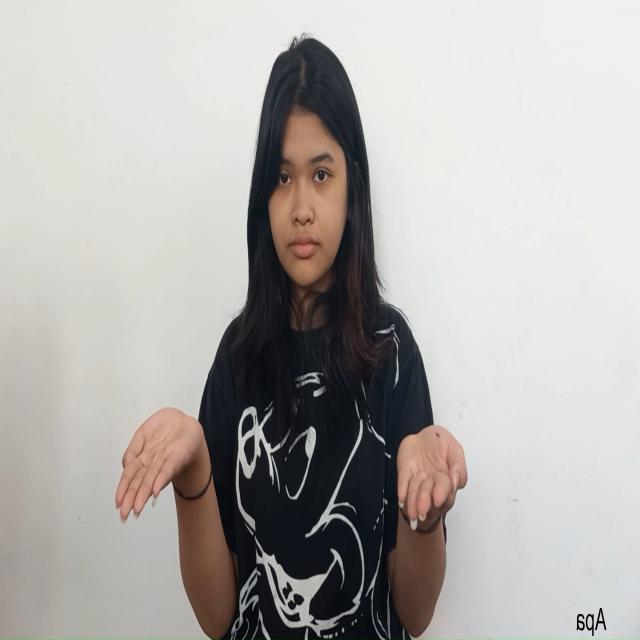Apa -BISINDO-: (108, 403, 470, 535)
